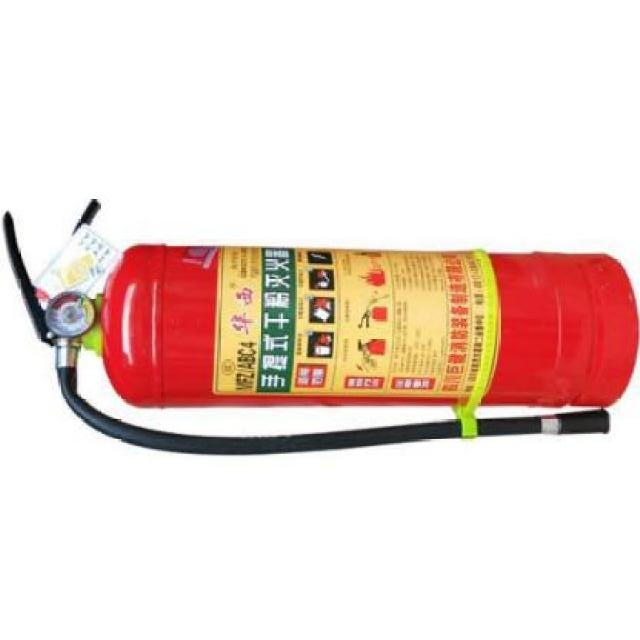fire extinguisher: (1, 202, 640, 457)
